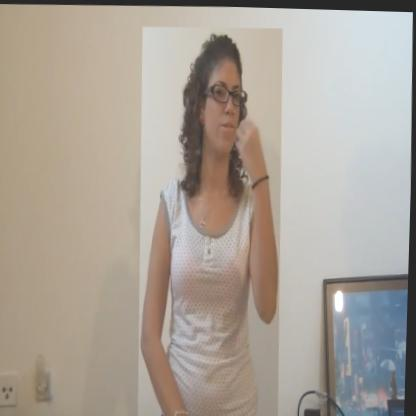Food: (132, 23, 289, 416)
